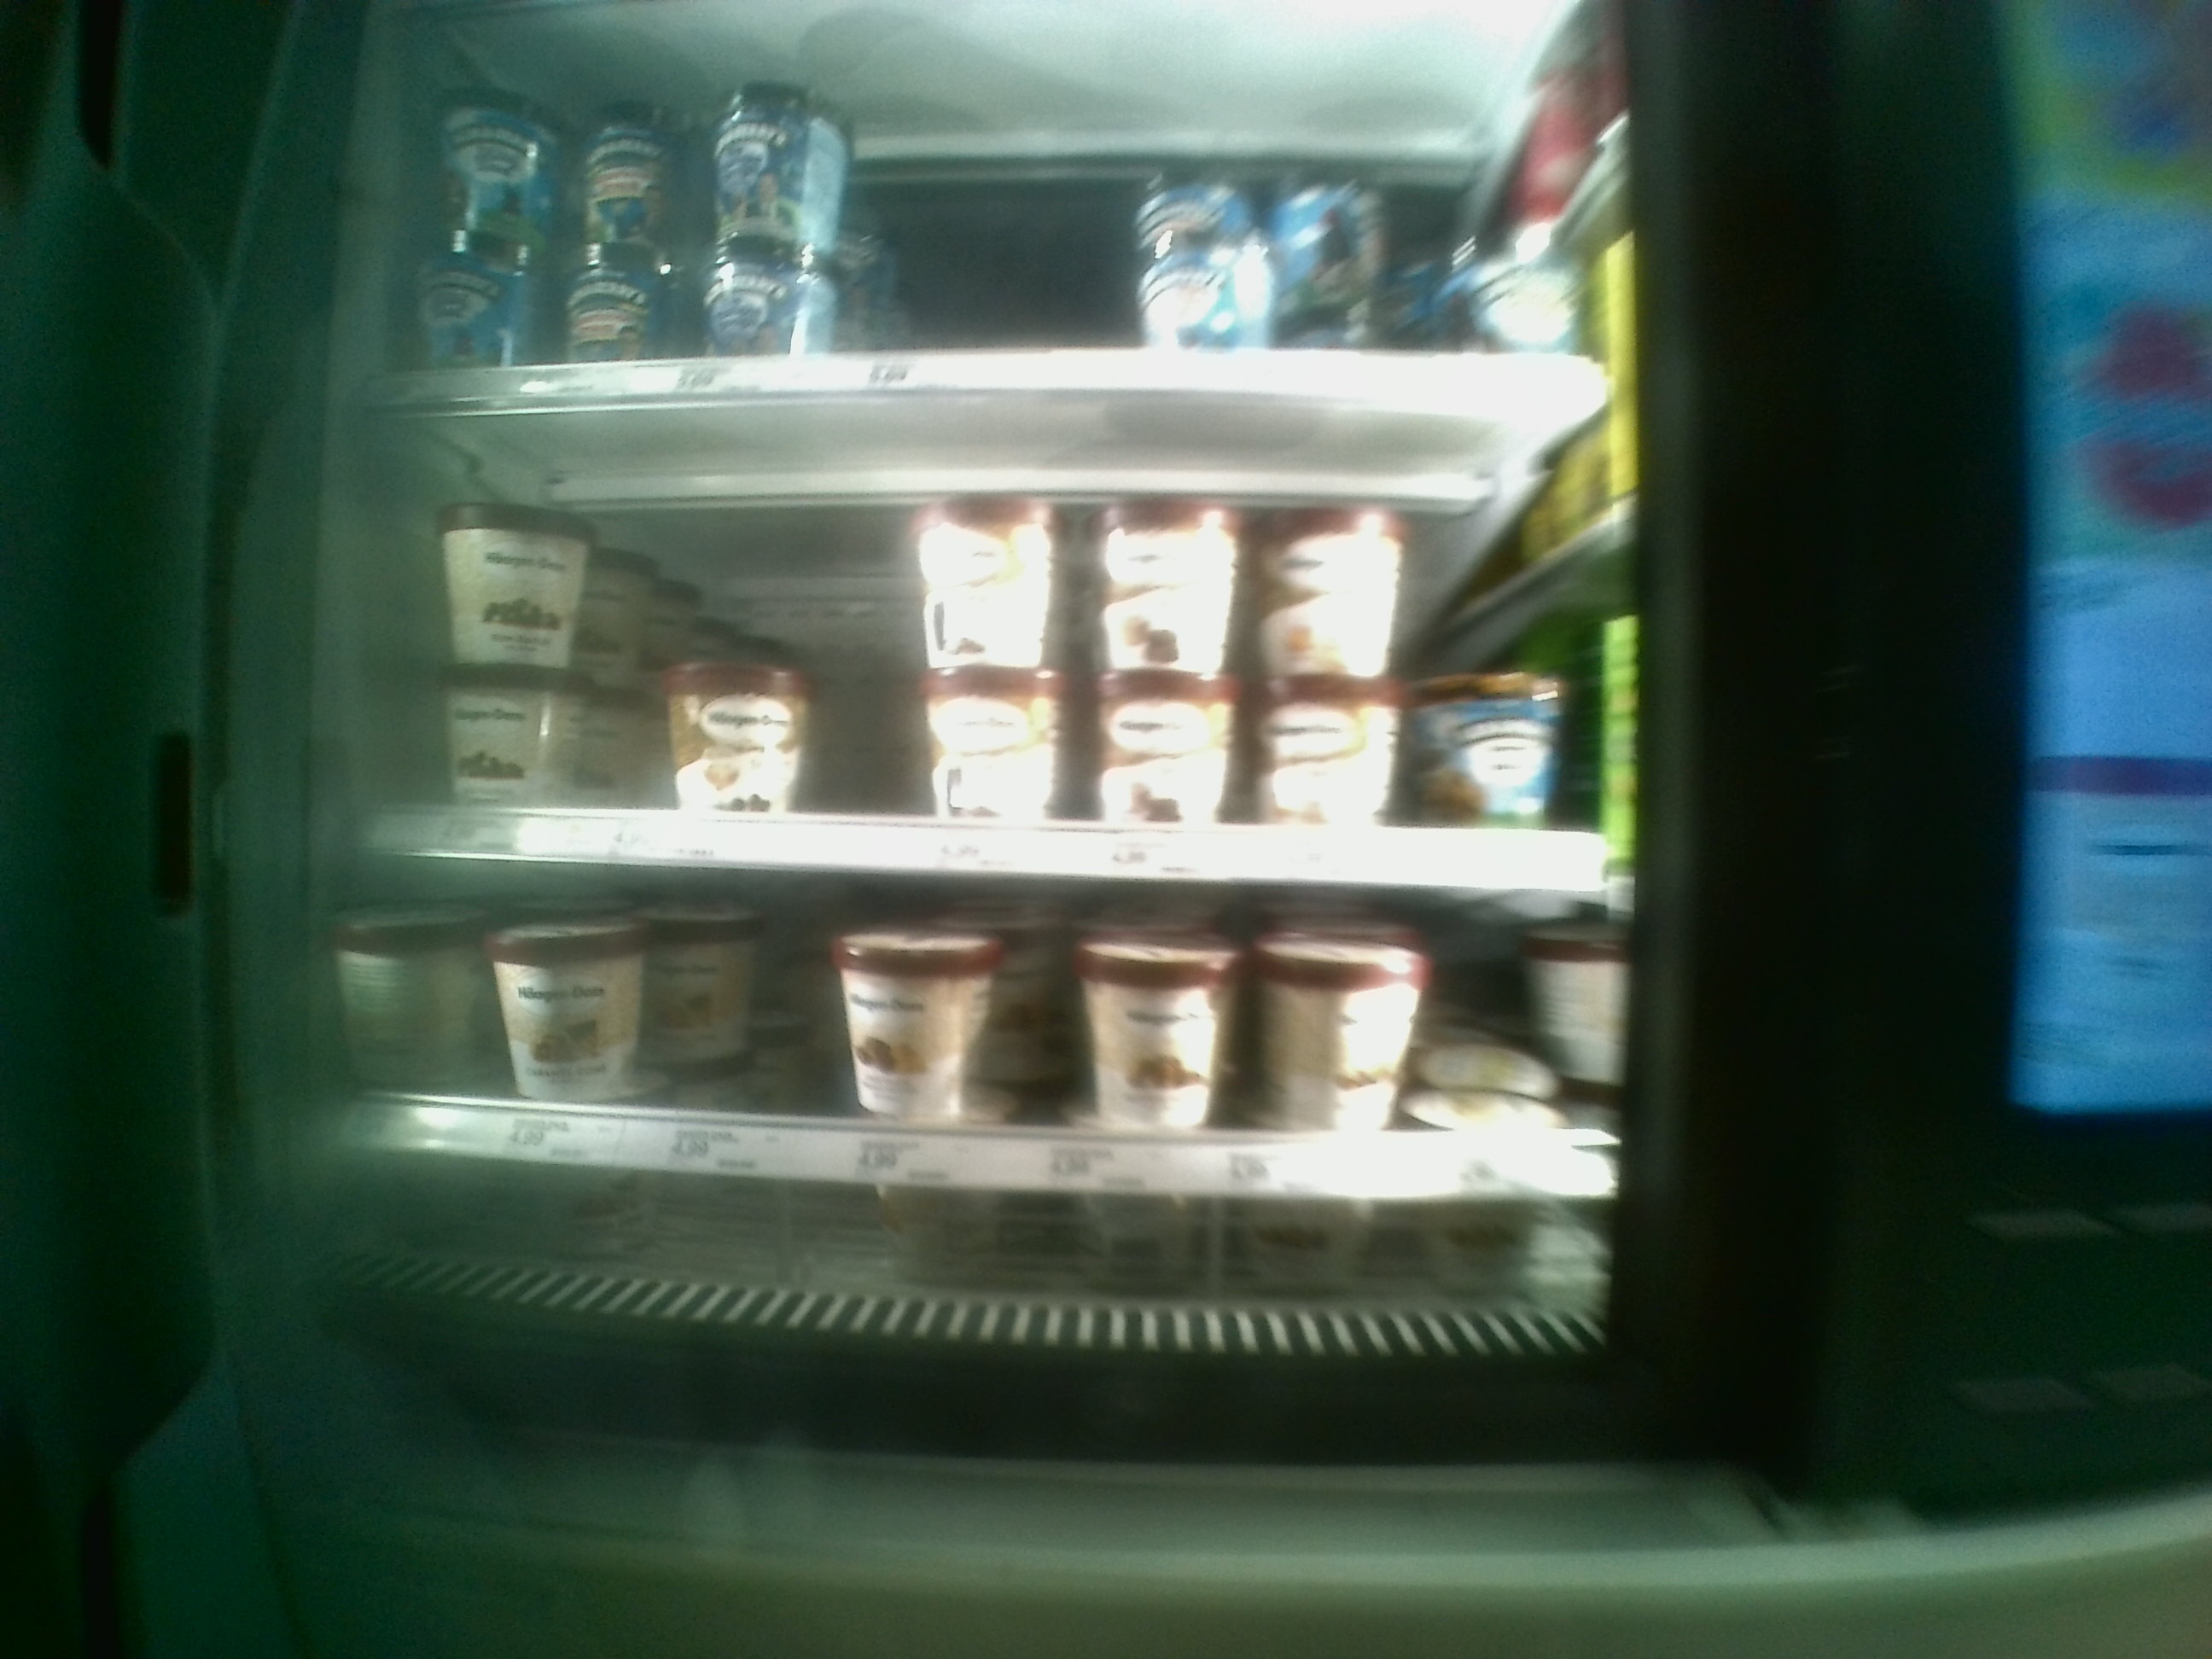shelf: (364, 397, 1630, 889), (355, 854, 1649, 1324)
